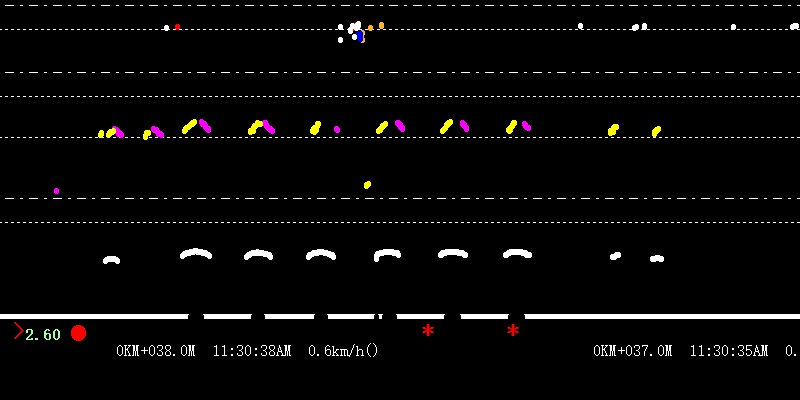circle: (69, 324, 88, 343)
face_2: (347, 19, 368, 47)
star: (420, 321, 436, 340), (505, 321, 520, 340)
y_p: (174, 110, 542, 270)
